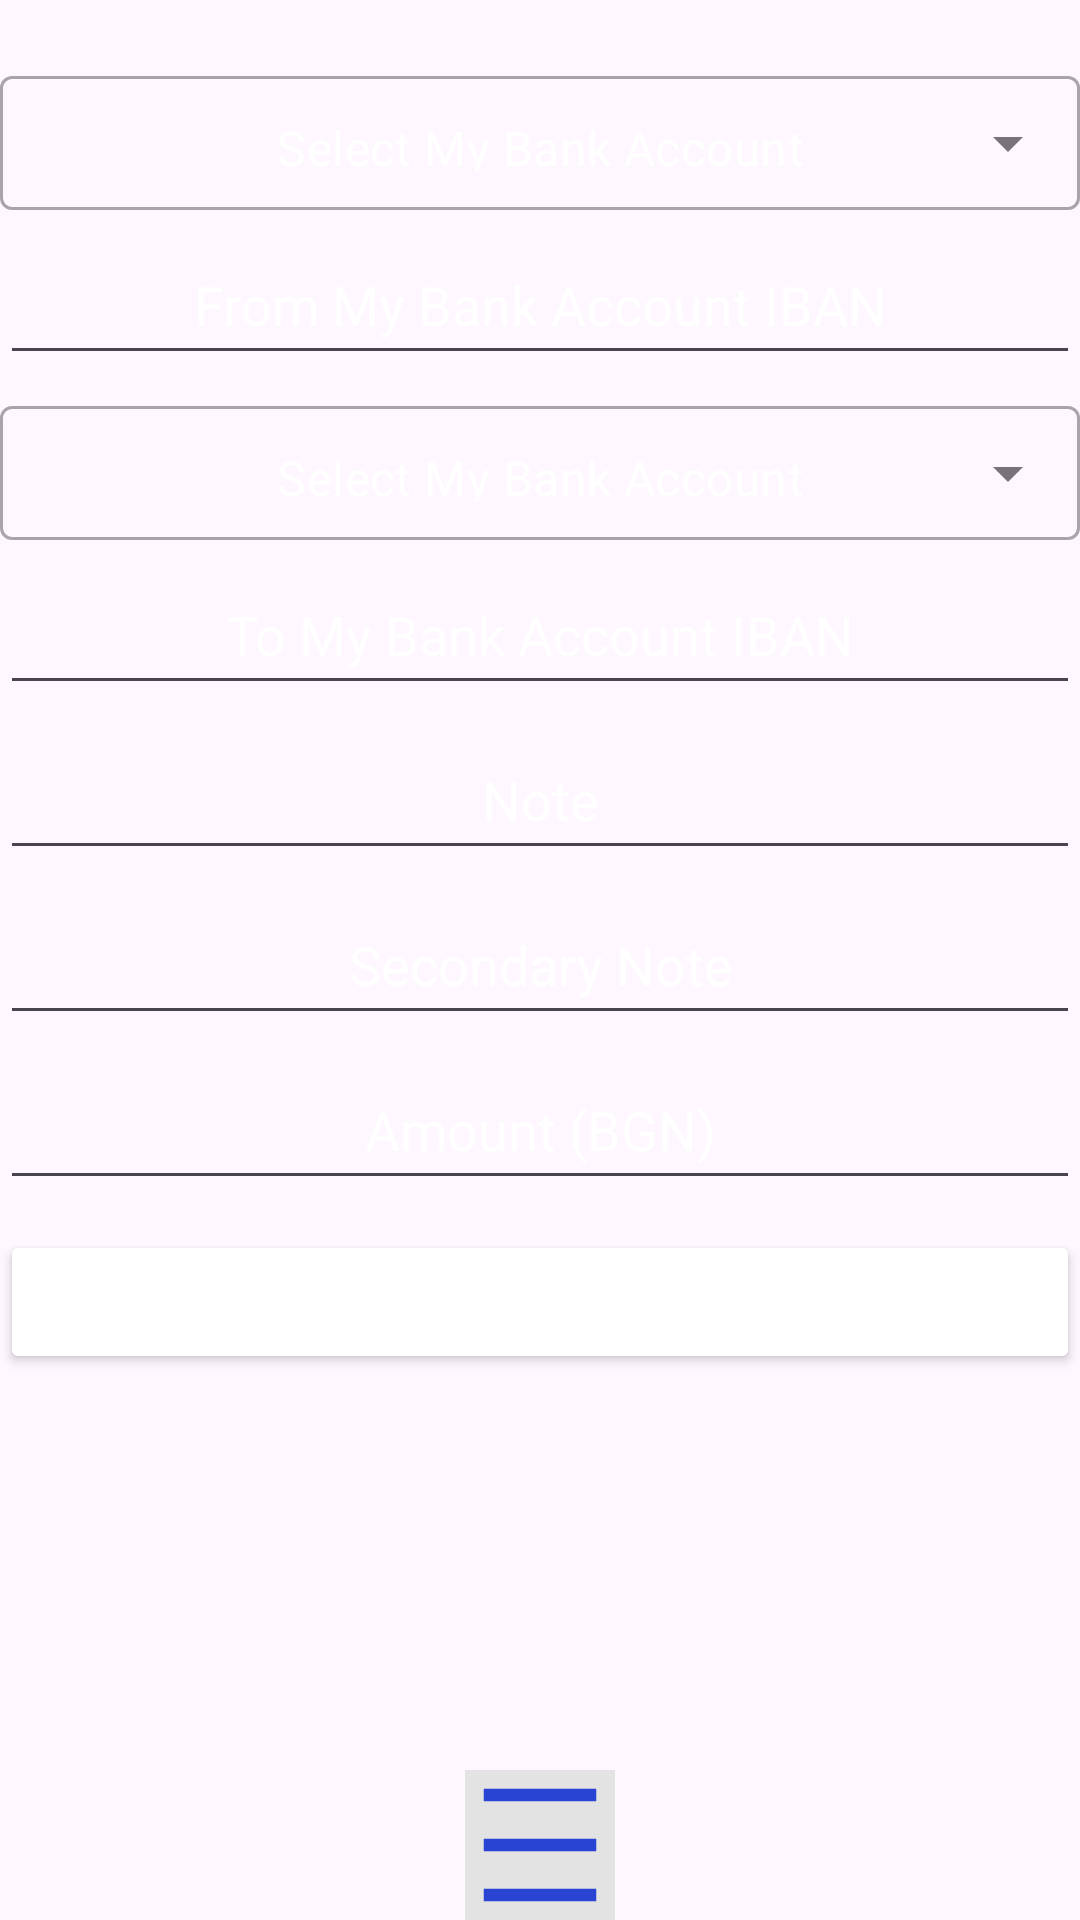

Where to tap for icons on this 1080px x 1920px app screen, as (x,y):
menu: (540,1845)
